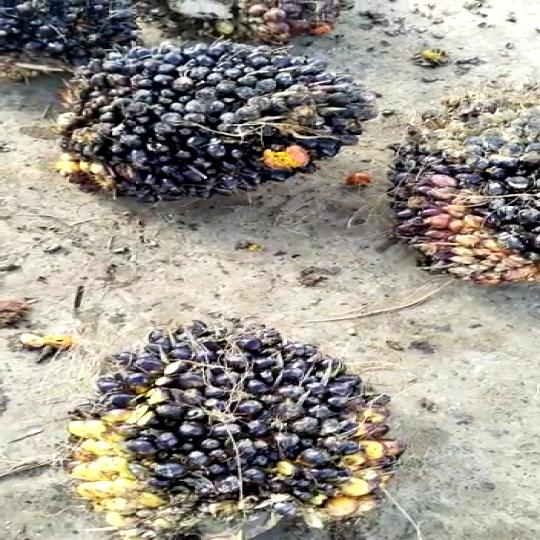mentah: (50, 323, 451, 532), (50, 34, 410, 223), (383, 80, 532, 299)
